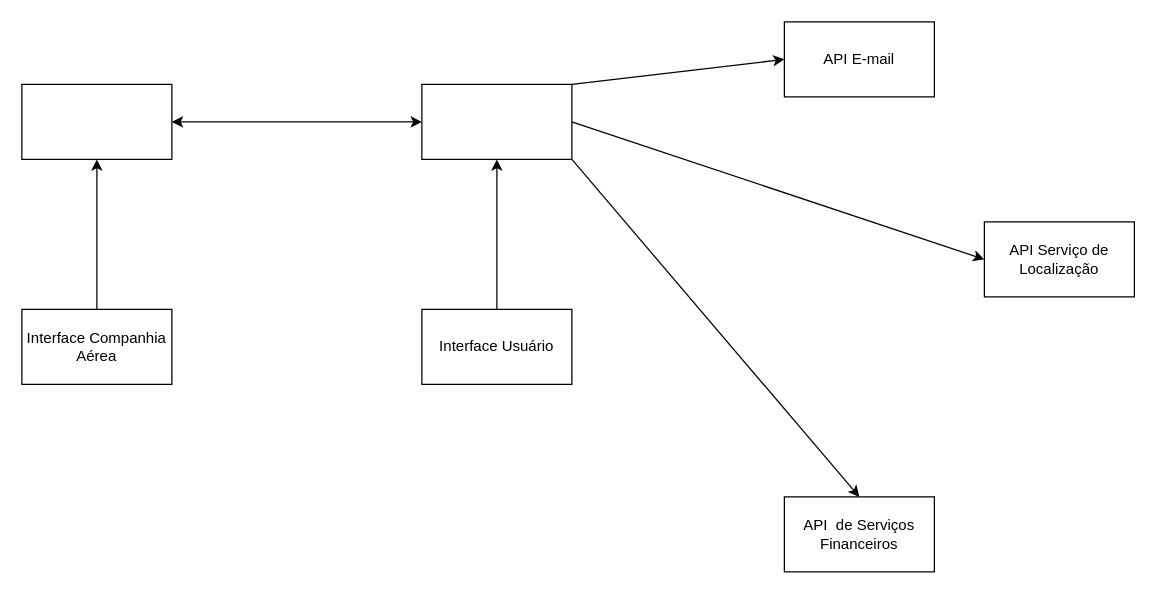
Some shapes in this 1156 by 594 pixel diagram are drawn without their labels. Here are the shapes that lost their labels. From the top down, the centre of each, then its label:
(96,121): Backend Companhia
(496,121): Backend Sistema de Gerenciamento de Reservas
